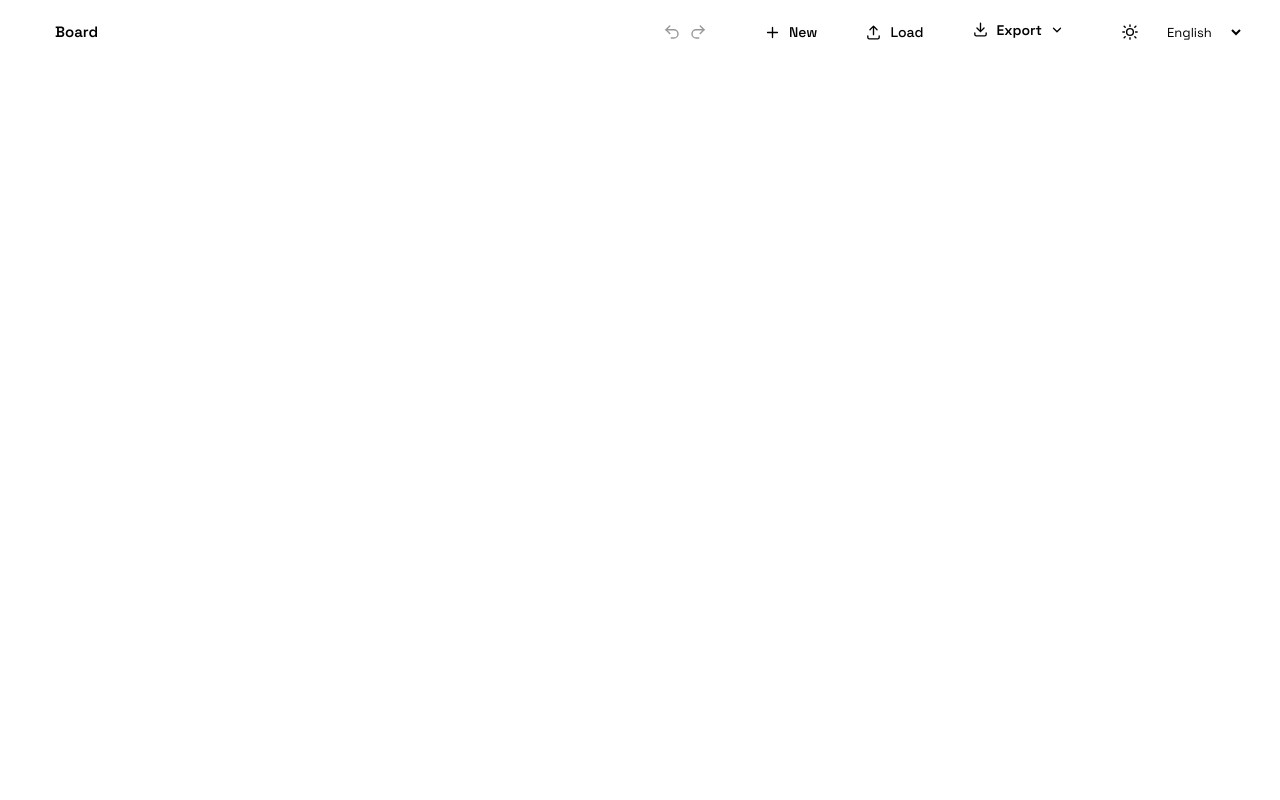
Scenario: TopBar › export choice › a press outside closes the choices; a press inside doesn't
Click the button "Export". click: (1018, 30)
box: [956,21,1080,39]
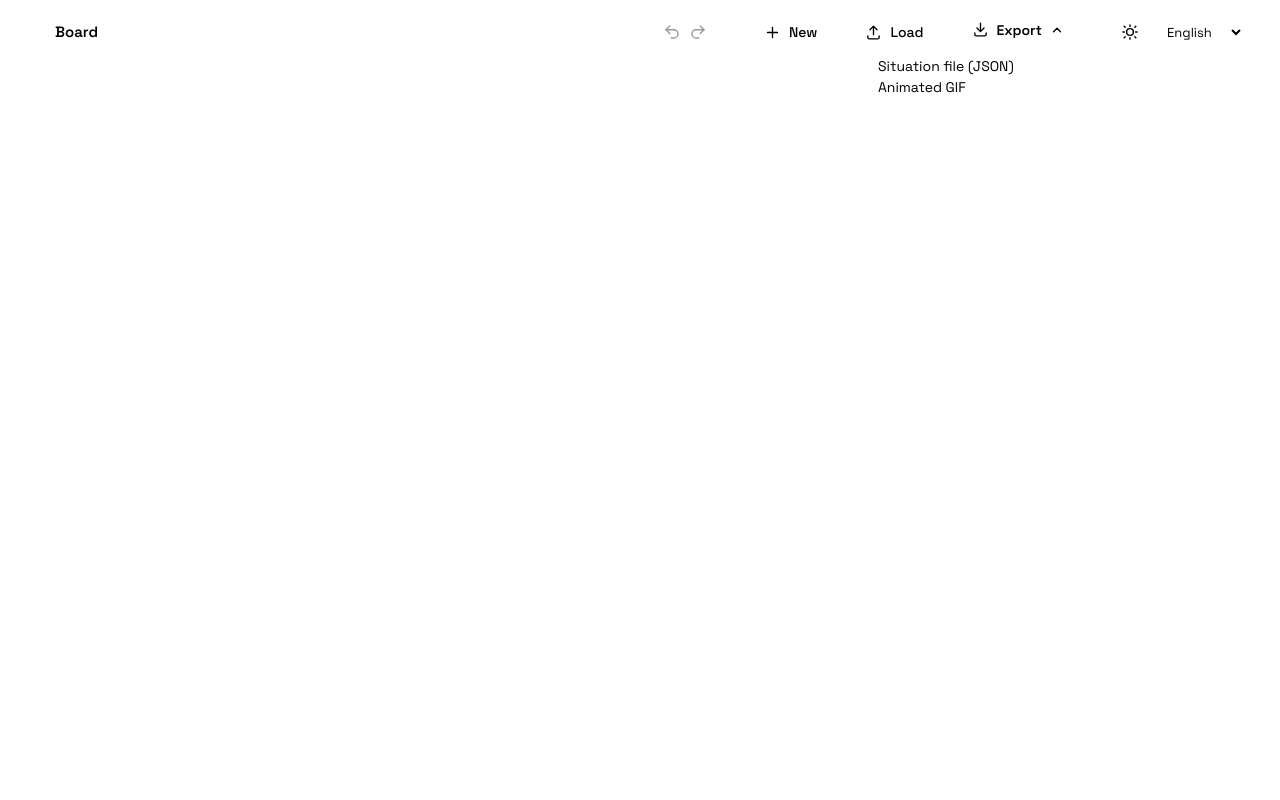
Press the mouse on the button "Animated GIF" at (970, 87), box [866,78,1074,96]
Result: the button "Export" is expanded at [956,21,1080,39]
Press the mouse on the element showing "Board New Load Export Situation file (JSON) Animated GIF" at (640, 400), box [0,0,1279,799]
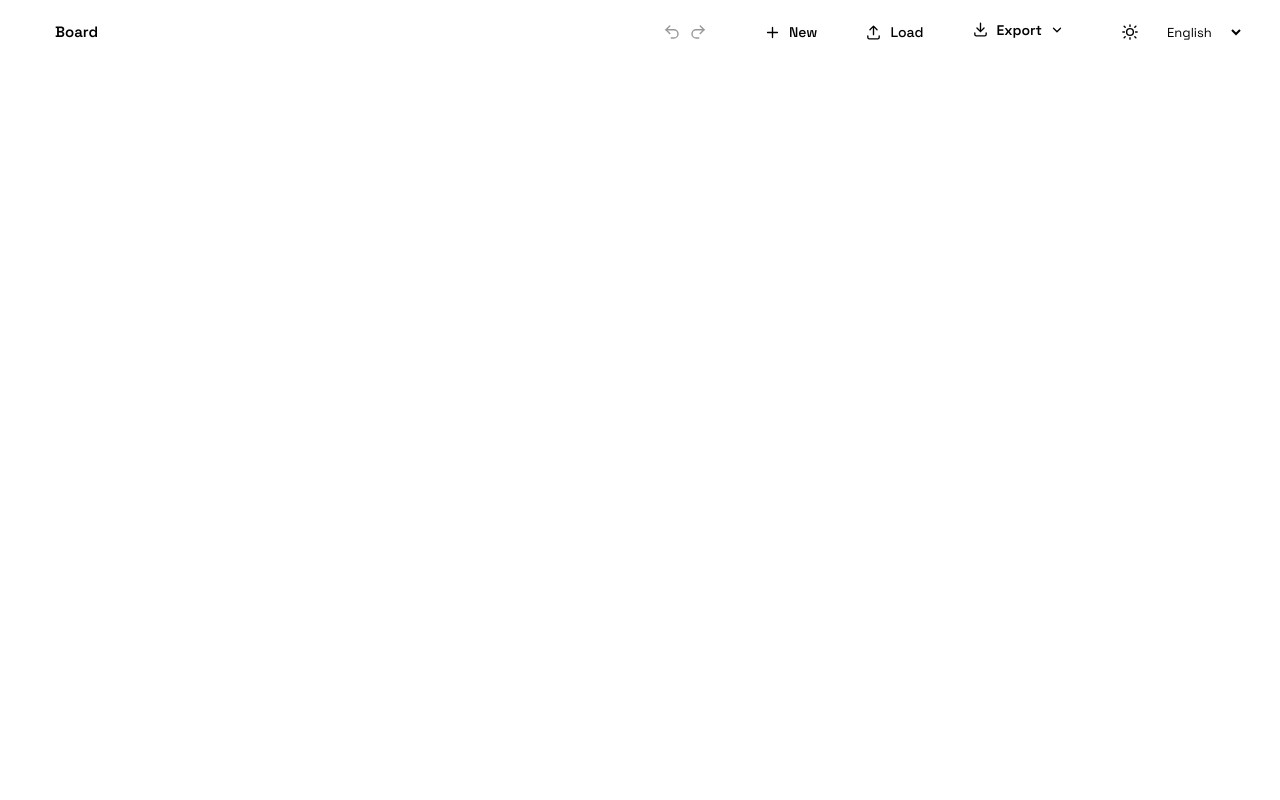
Result: the button "Export" is collapsed at [956,21,1080,39]
